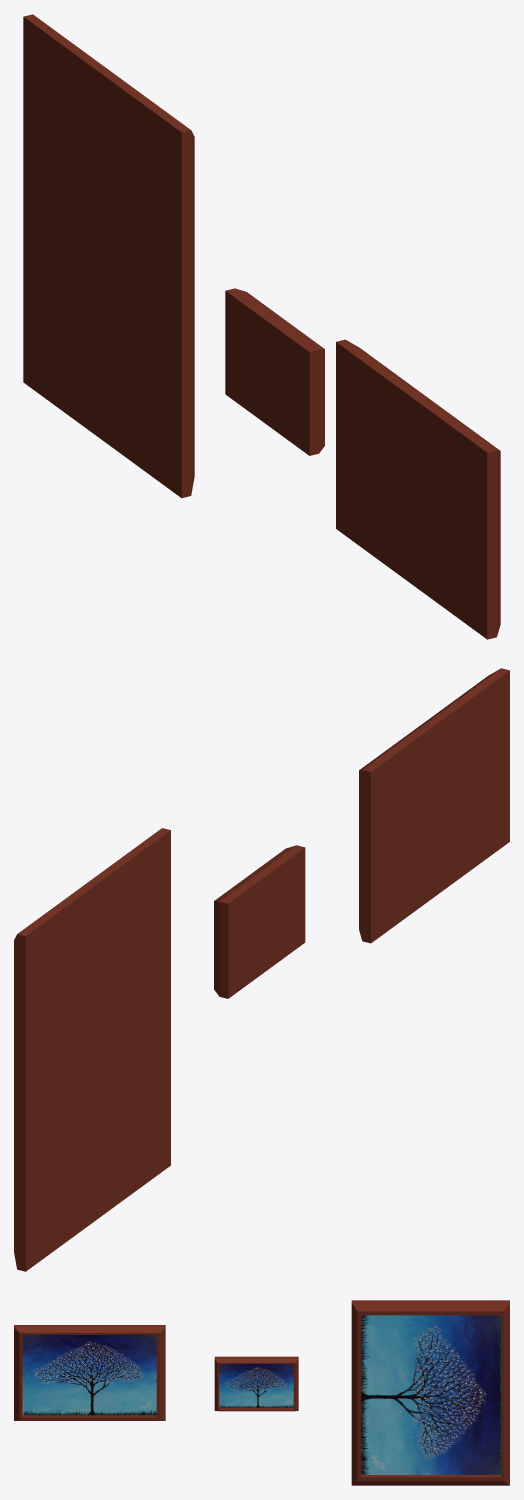
File: TreePainting.fbx
3 renders of one model, top to bottom at view 1: azimuth 30°, elevation 25°; view 2: azimuth 150°, elevation 25°; view 3: azimuth 270°, elevation 25°, orthographic. The views are drawn at different scales.
Parts seen in each view (by area): view 1: Large, Medium, Small; view 2: Large, Medium, Small; view 3: Large, Medium, Small.
Boxes of the visible parts, <box> form: Large: <box>23,14,194,498</box>; Medium: <box>336,339,500,639</box>; Small: <box>225,288,324,455</box>; Large: <box>14,828,170,1271</box>; Medium: <box>359,668,509,943</box>; Small: <box>214,845,305,998</box>; Large: <box>351,1300,509,1485</box>; Medium: <box>14,1325,165,1420</box>; Small: <box>214,1356,298,1411</box>.
Size of the model in its own units: 56.52 by 391 by 962.
